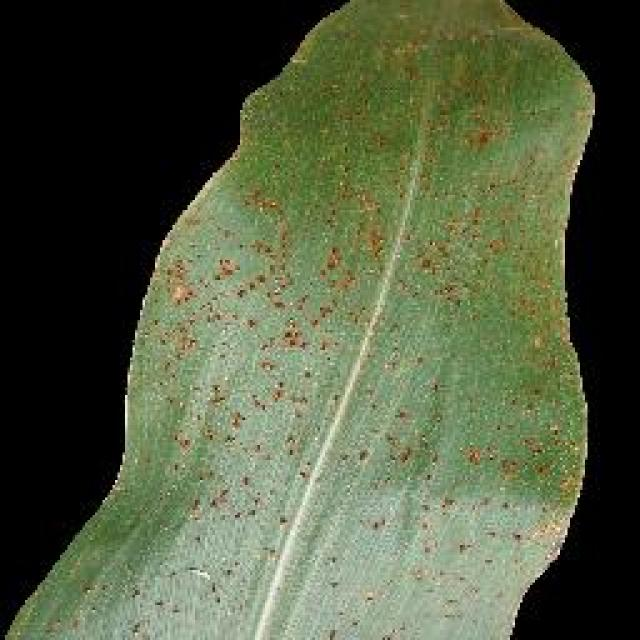Corn___Common_rust: (154, 50, 537, 640)
